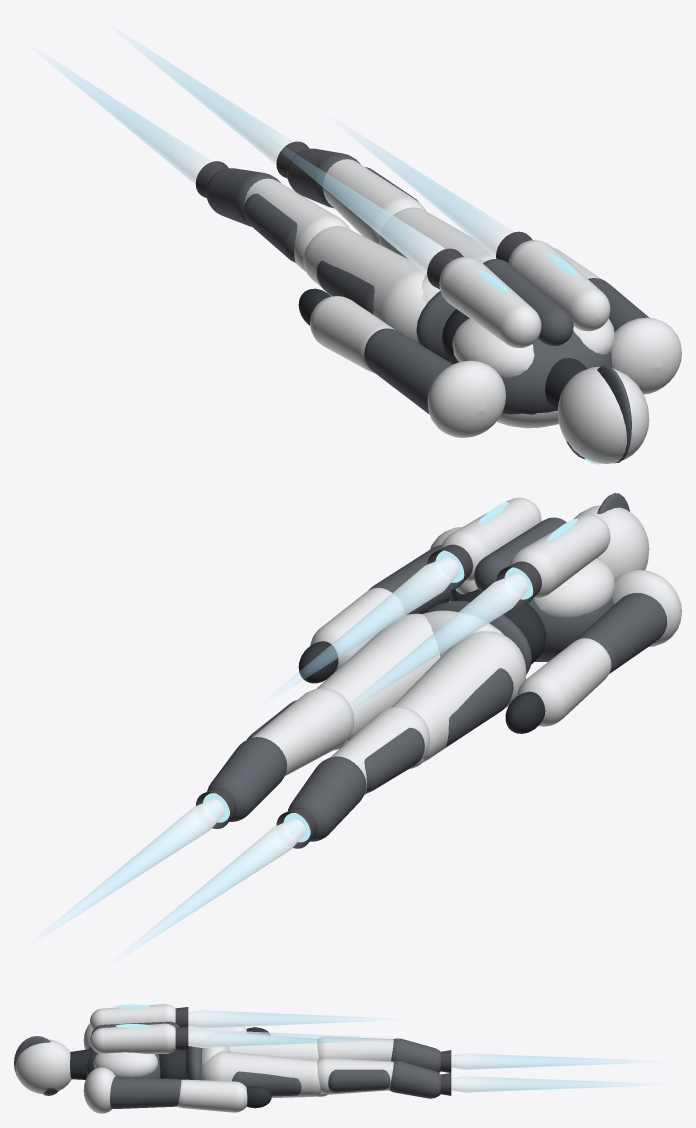
Rendered from hero.glb.
3 renders of one model, top to bottom at view 1: azimuth 30°, elevation 25°; view 2: azimuth 150°, elevation 25°; view 3: azimuth 270°, elevation 25°, orthographic. The views are drawn at different scales.
Visible parts, largest first — view 1: plate, armor, flame-2, flame-1, flame-3, flame-4, nozzle, joint; view 2: plate, armor, flame-1, flame-2, joint, flame-3, flame-4, glowCyan, nozzle; view 3: plate, armor, flame-1, flame-2, flame-3, flame-4, joint, nozzle, glowCyan.
Part boxes in pixels (x1,y1,x2,y2): plate: [244, 159, 681, 463]; armor: [206, 148, 649, 463]; flame-2: [280, 146, 444, 273]; flame-1: [349, 130, 513, 256]; flame-3: [128, 38, 292, 163]; flame-4: [48, 58, 211, 183]; nozzle: [195, 141, 532, 289]; joint: [298, 288, 587, 409]; plate: [252, 497, 681, 794]; armor: [207, 493, 666, 841]; flame-1: [280, 557, 458, 691]; flame-2: [349, 574, 527, 708]; joint: [298, 557, 597, 733]; flame-3: [48, 799, 224, 931]; flame-4: [128, 818, 304, 951]; glowCyan: [203, 502, 577, 842]; nozzle: [196, 544, 541, 848]; plate: [15, 1004, 393, 1113]; armor: [14, 1021, 440, 1108]; flame-1: [188, 1029, 378, 1047]; flame-2: [188, 1010, 378, 1028]; flame-3: [451, 1076, 641, 1092]; flame-4: [451, 1053, 641, 1069]; joint: [70, 1027, 271, 1108]; nozzle: [175, 1007, 451, 1095]; glowCyan: [42, 1004, 149, 1095].
Size of the model in its own units: 0.736 by 0.395 by 2.9.
